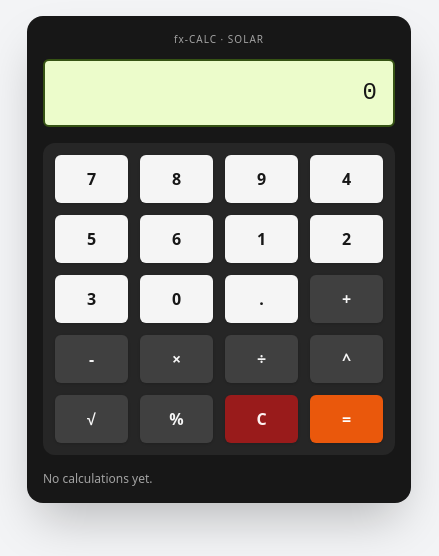
Test: Calculator › starts a fresh expression after pressing a digit following a result
Click the button "2": (346, 239) [310,215,383,263]
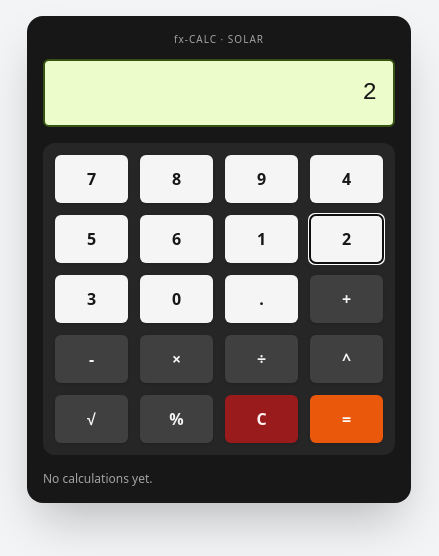
Click the button "+": (346, 299) [310,275,383,323]
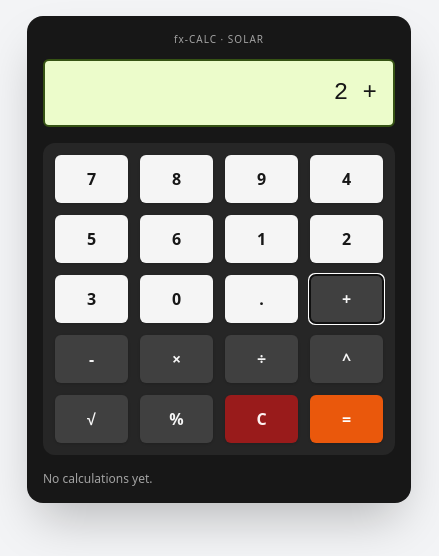
Click the button "3": (92, 299) [55,275,128,323]
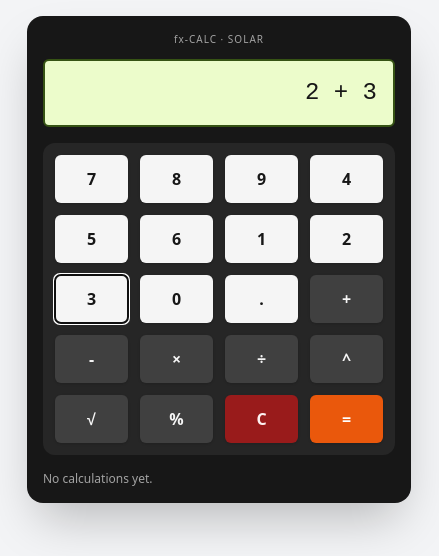
Click the button "=": (346, 419) [310,395,383,443]
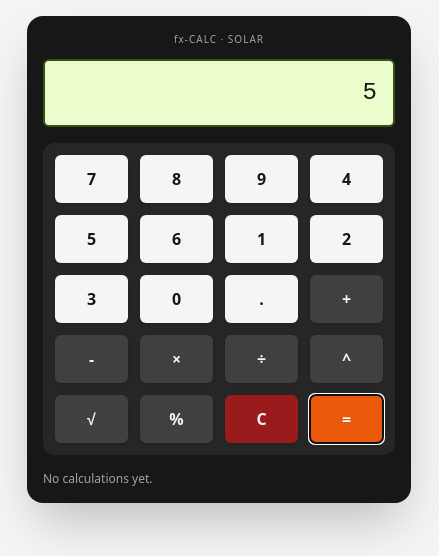
Check: the text with test id "display" reads "5", box [363,79,377,106]
Click the button "9": (262, 179) [225,155,298,203]
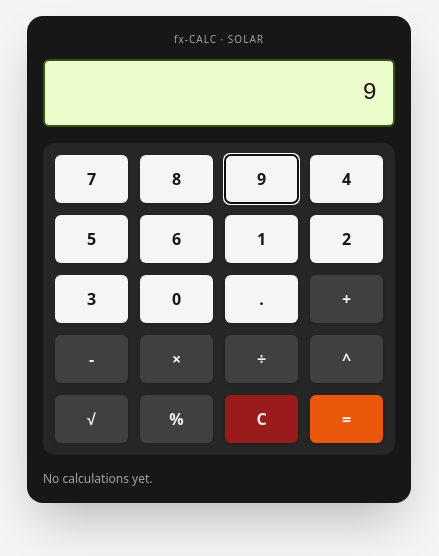
Check: the text with test id "display" reads "9", box [363,79,377,106]
